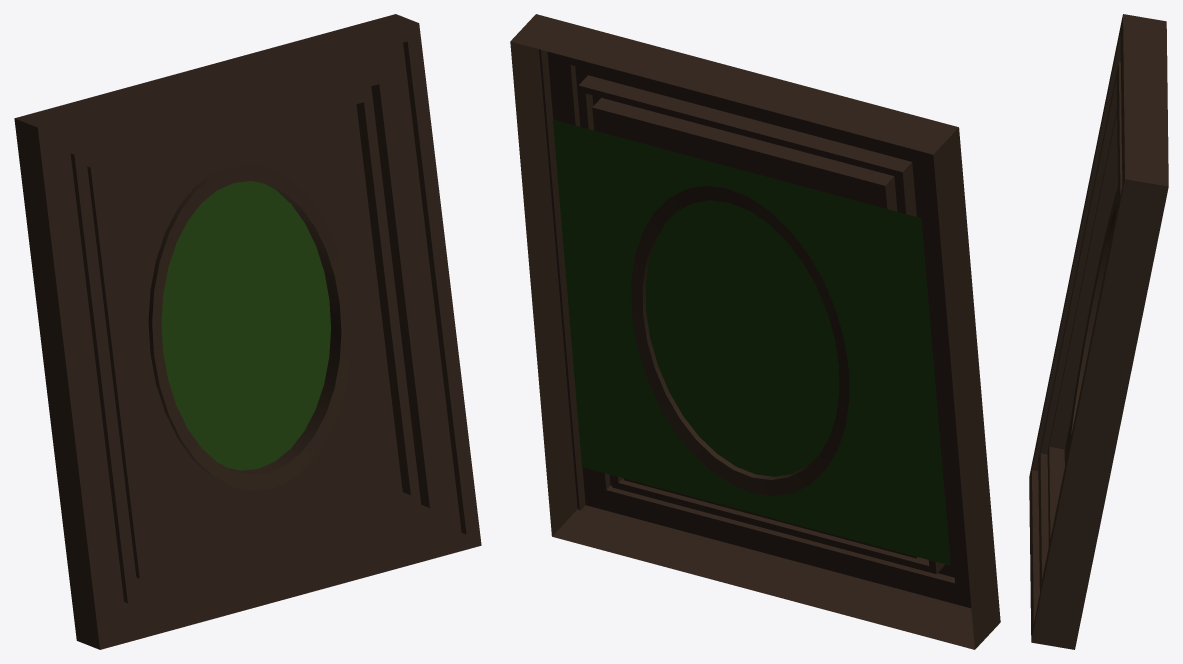
File: Paiting.fbx
3 renders of one model, left to right at view 1: azimuth 30°, elevation 25°; view 2: azimuth 150°, elevation 25°; view 3: azimuth 270°, elevation 25°, orthographic. The views are drawn at different scales.
Visible parts, largest first — view 1: Cube.136; view 2: Cube.136; view 3: Cube.136.
Part boxes in pixels (x1,y1,x2,y2): Cube.136: [14, 14, 481, 649]; Cube.136: [510, 14, 1000, 649]; Cube.136: [1029, 14, 1168, 649].
Bounding box in the file's own units: 111 × 136 × 36.25.
